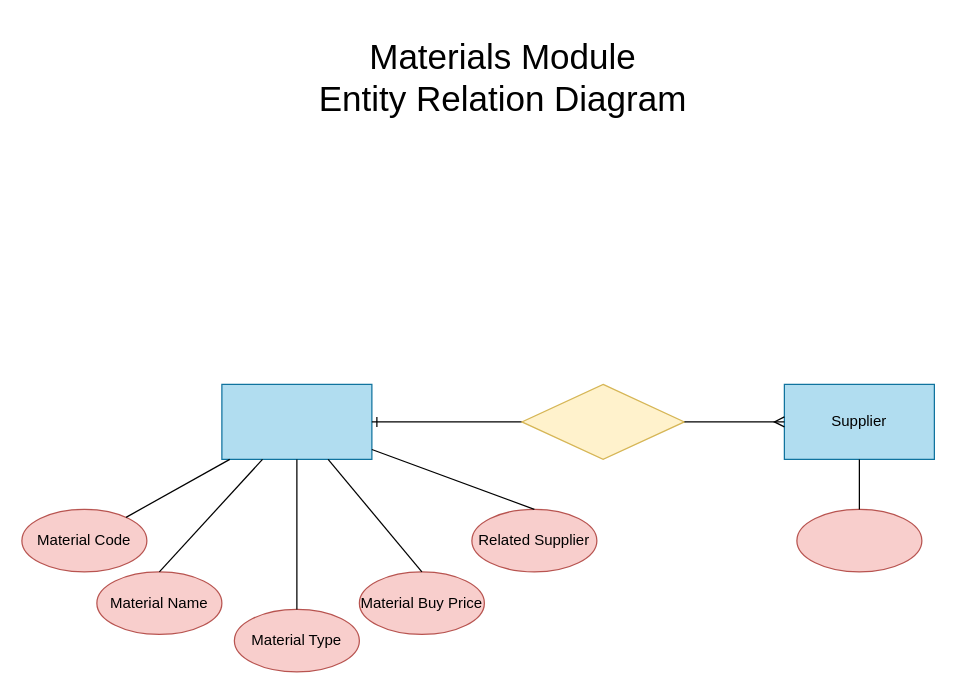
Some shapes in this 956 by 694 pixel diagram are drawn without their labels. The shapes that lost their labels are listed below. From the top down, each one's centre as x and y in pixels, then its label:
At pixel 296 421: "Materials".
At pixel 602 421: "Get Supplier List".
At pixel 859 540: "Supplier Name".
